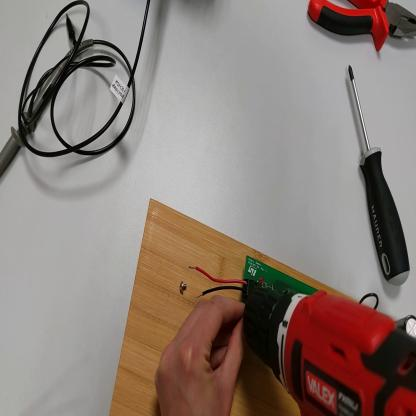electric screwdriver: (244, 287, 416, 416)
hand: (154, 293, 248, 413)
high voltage board: (189, 257, 318, 298)
oscilloscope probe tip: (3, 33, 98, 173)
pliers: (309, 2, 415, 45)
screwdriver-: (350, 56, 412, 290)
working area: (110, 200, 346, 416)
